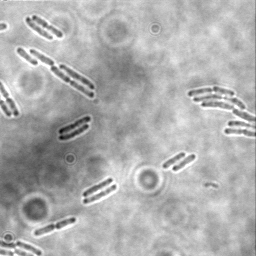Dividing: (51, 64, 96, 99), (33, 215, 77, 237), (0, 80, 21, 118), (82, 184, 118, 206), (32, 14, 64, 38), (57, 115, 93, 135), (58, 123, 90, 142), (172, 153, 196, 173)
Microcolony: (186, 85, 255, 138)
Rod: (59, 63, 96, 91), (25, 16, 54, 41), (82, 177, 114, 197), (29, 48, 56, 67), (15, 239, 43, 256), (162, 151, 186, 169), (17, 47, 39, 66)
